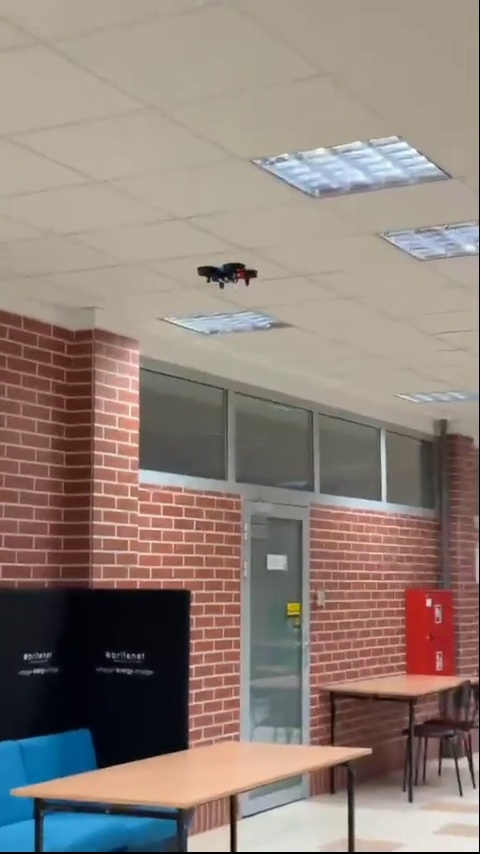drone: (195, 260, 260, 284)
